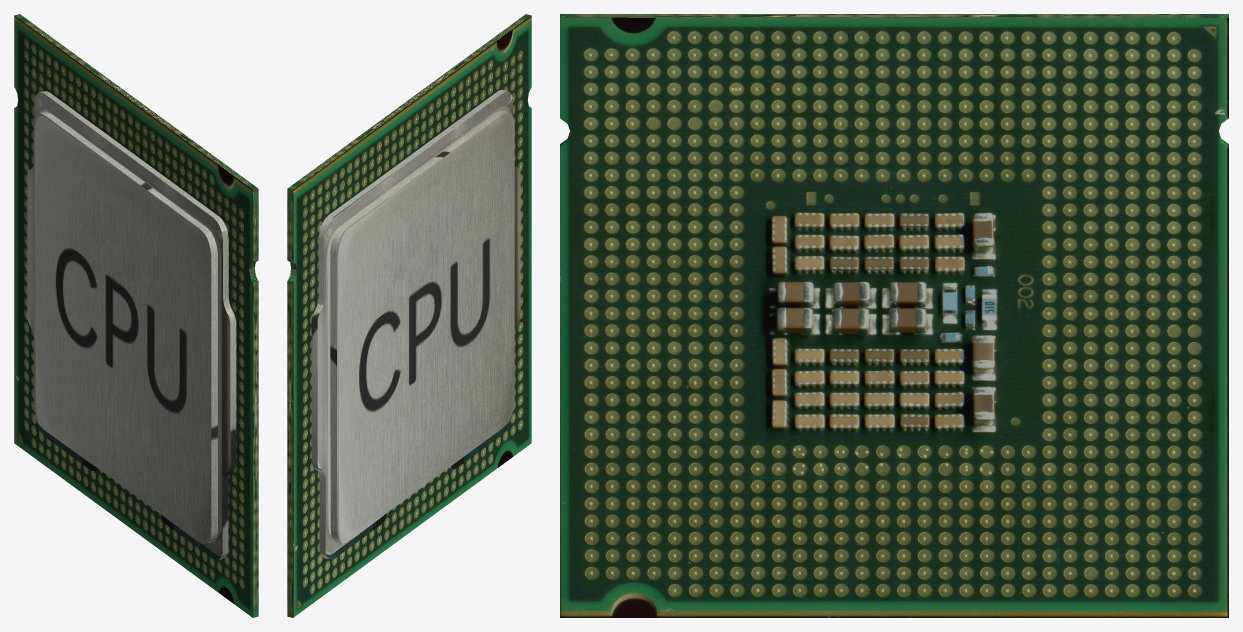
File: Cpu_INREL.fbx
The picture shows the model from 3 angles, left to right: view 1: azimuth 30°, elevation 25°; view 2: azimuth 150°, elevation 25°; view 3: azimuth 270°, elevation 25°; orthographic projection. The views are drawn at different scales.
Visible parts, largest first — view 1: Cpu_INREL; view 2: Cpu_INREL; view 3: Cpu_INREL.
Part boxes in pixels (left/top/right/bottom): Cpu_INREL: left=14, top=14, right=258, bottom=617; Cpu_INREL: left=287, top=14, right=531, bottom=617; Cpu_INREL: left=560, top=14, right=1228, bottom=617.
Bounding box in the file's own units: 0.179 × 4.08 × 4.12.
